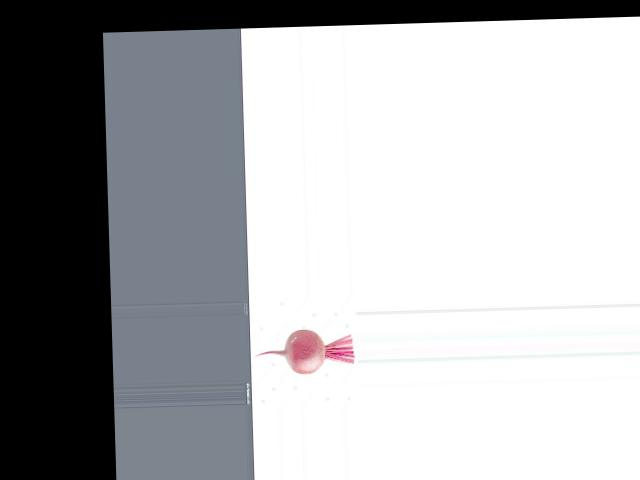beet: (252, 327, 355, 375)
